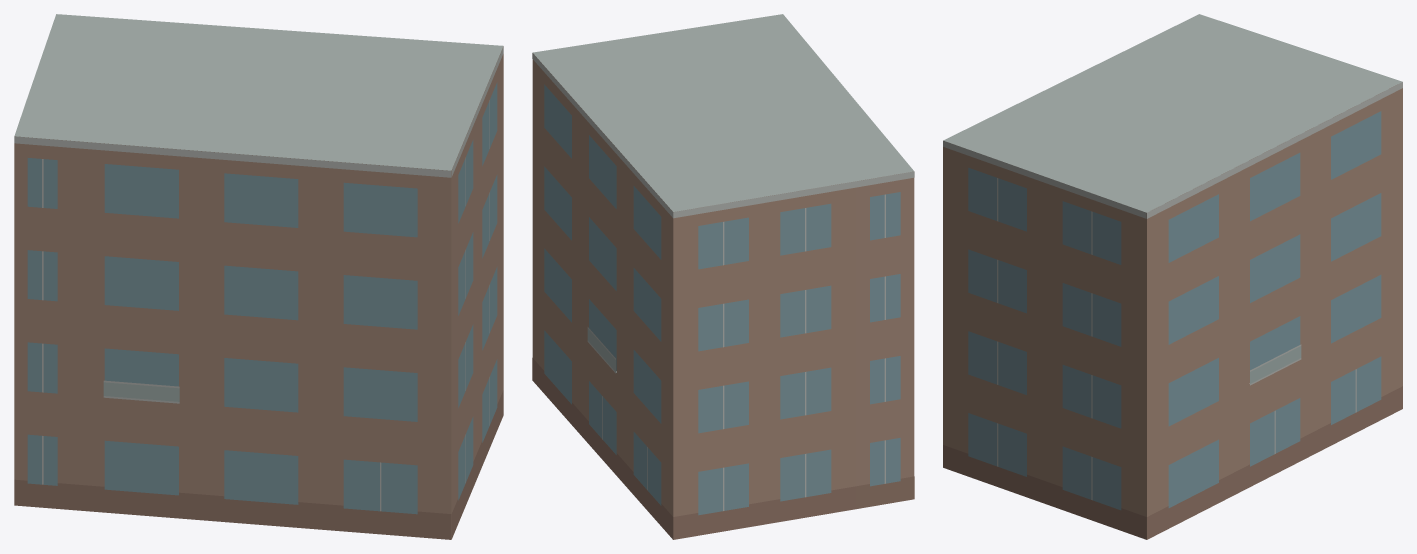
The model's file is survey-upis-32670552.glb.
3 renders of one model, left to right at view 1: azimuth 30°, elevation 25°; view 2: azimuth 150°, elevation 25°; view 3: azimuth 270°, elevation 25°, orthographic. The views are drawn at different scales.
Visible parts, largest first — view 1: survey-upis-32670552.tmp; view 2: survey-upis-32670552.tmp; view 3: survey-upis-32670552.tmp.
Part boxes in pixels (bbox=[...]): survey-upis-32670552.tmp: bbox=[14, 14, 503, 539]; survey-upis-32670552.tmp: bbox=[532, 14, 914, 539]; survey-upis-32670552.tmp: bbox=[943, 14, 1402, 539].
Size of the model in its own units: 16.69 by 12.8 by 16.31.
